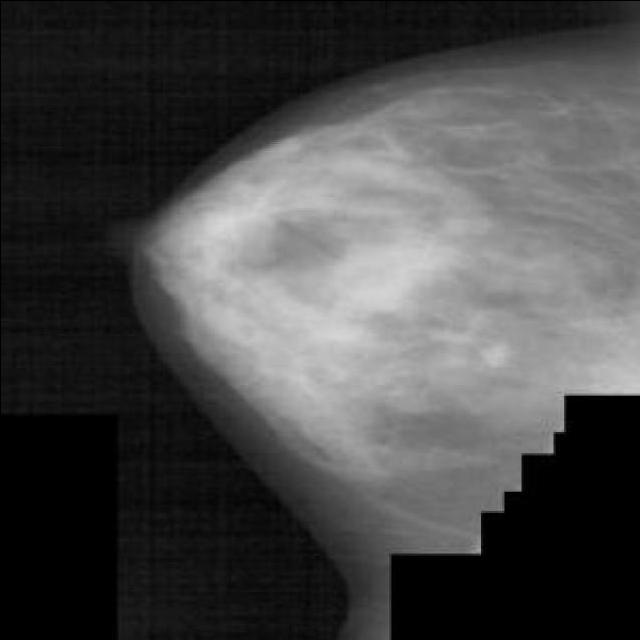tumor: (162, 178, 461, 347)
